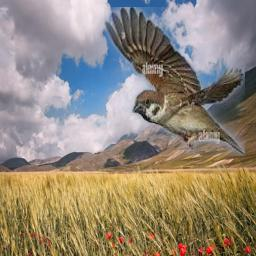Sparrow: (105, 8, 246, 157)
